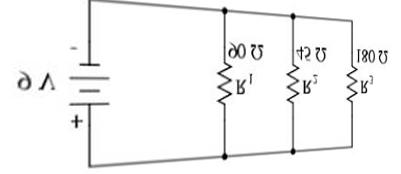Battery: (56, 52, 131, 137)
